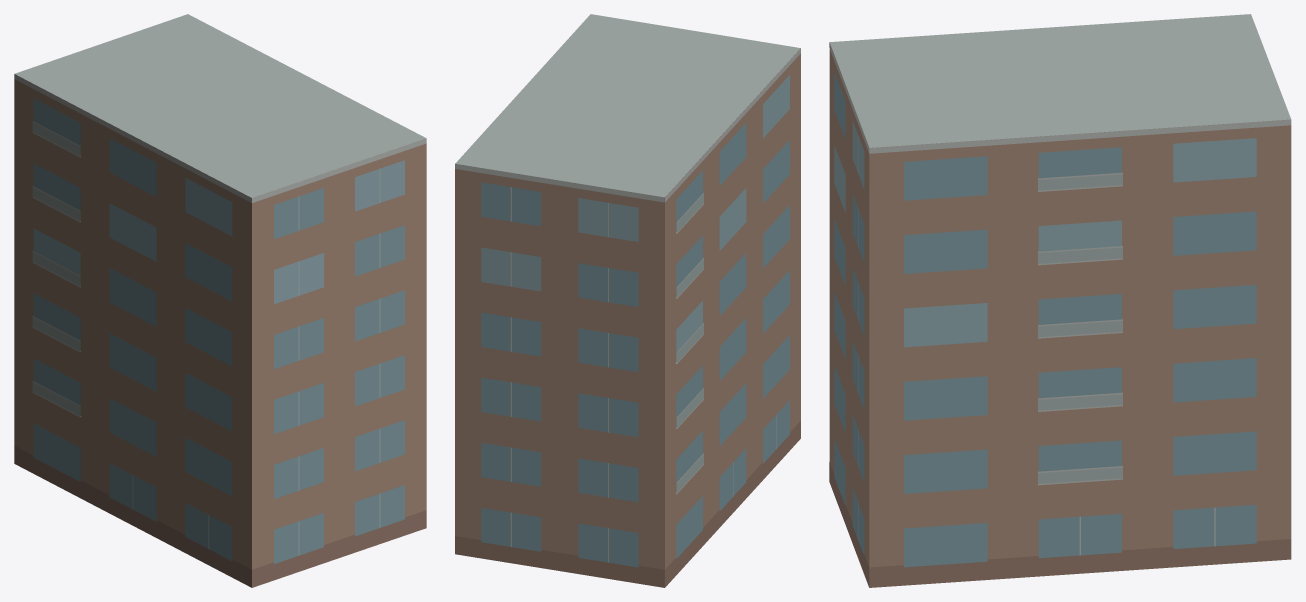
Rendered from survey-upis-32561629.glb.
3 renders of one model, left to right at view 1: azimuth 30°, elevation 25°; view 2: azimuth 150°, elevation 25°; view 3: azimuth 270°, elevation 25°, orthographic. The views are drawn at different scales.
Visible parts, largest first — view 1: survey-upis-32561629.tmp; view 2: survey-upis-32561629.tmp; view 3: survey-upis-32561629.tmp.
Boxes of the visible parts, <box> form: survey-upis-32561629.tmp: <box>14,14,426,587</box>; survey-upis-32561629.tmp: <box>455,14,800,587</box>; survey-upis-32561629.tmp: <box>829,14,1291,587</box>.
Bounding box in the file's own units: 12.09 × 18.5 × 17.61.
